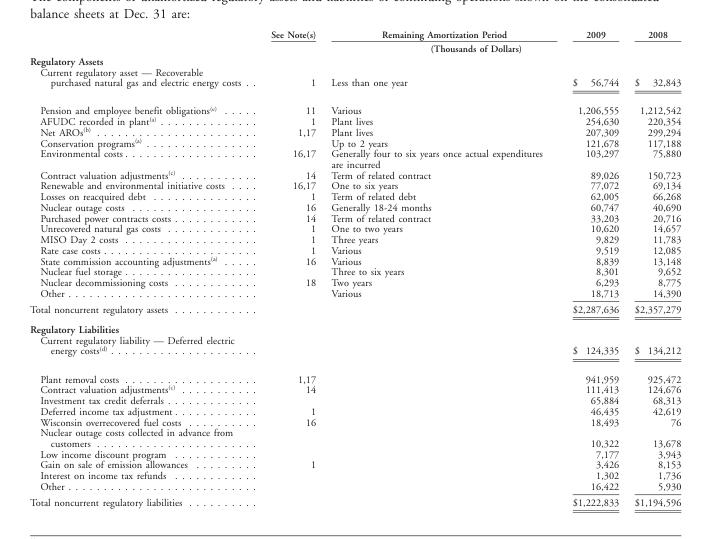table: (29, 28, 680, 507)
table column: (322, 28, 556, 507), (29, 28, 255, 507), (556, 28, 626, 507), (255, 28, 322, 507), (626, 28, 680, 507)
table column header: (29, 28, 680, 54)
table projected row header: (29, 318, 680, 334), (29, 54, 680, 66), (29, 66, 680, 76)
table row: (29, 334, 680, 364), (29, 147, 680, 169), (29, 426, 680, 448), (29, 76, 680, 96), (29, 96, 680, 115), (29, 364, 680, 383), (29, 300, 680, 318), (29, 318, 680, 334), (29, 493, 680, 507), (29, 28, 680, 41), (29, 41, 680, 54), (29, 287, 680, 300), (29, 480, 680, 493), (29, 54, 680, 66), (29, 115, 680, 126), (29, 136, 680, 147), (29, 169, 680, 180), (29, 190, 680, 201), (29, 201, 680, 212), (29, 212, 680, 223), (29, 233, 680, 244), (29, 254, 680, 265), (29, 265, 680, 276), (29, 276, 680, 287), (29, 383, 680, 394), (29, 394, 680, 405), (29, 405, 680, 416), (29, 448, 680, 459), (29, 469, 680, 480), (29, 66, 680, 76), (29, 126, 680, 136), (29, 180, 680, 190), (29, 223, 680, 233), (29, 244, 680, 254), (29, 416, 680, 426), (29, 459, 680, 469)
table spanning cell: (255, 41, 680, 54)
